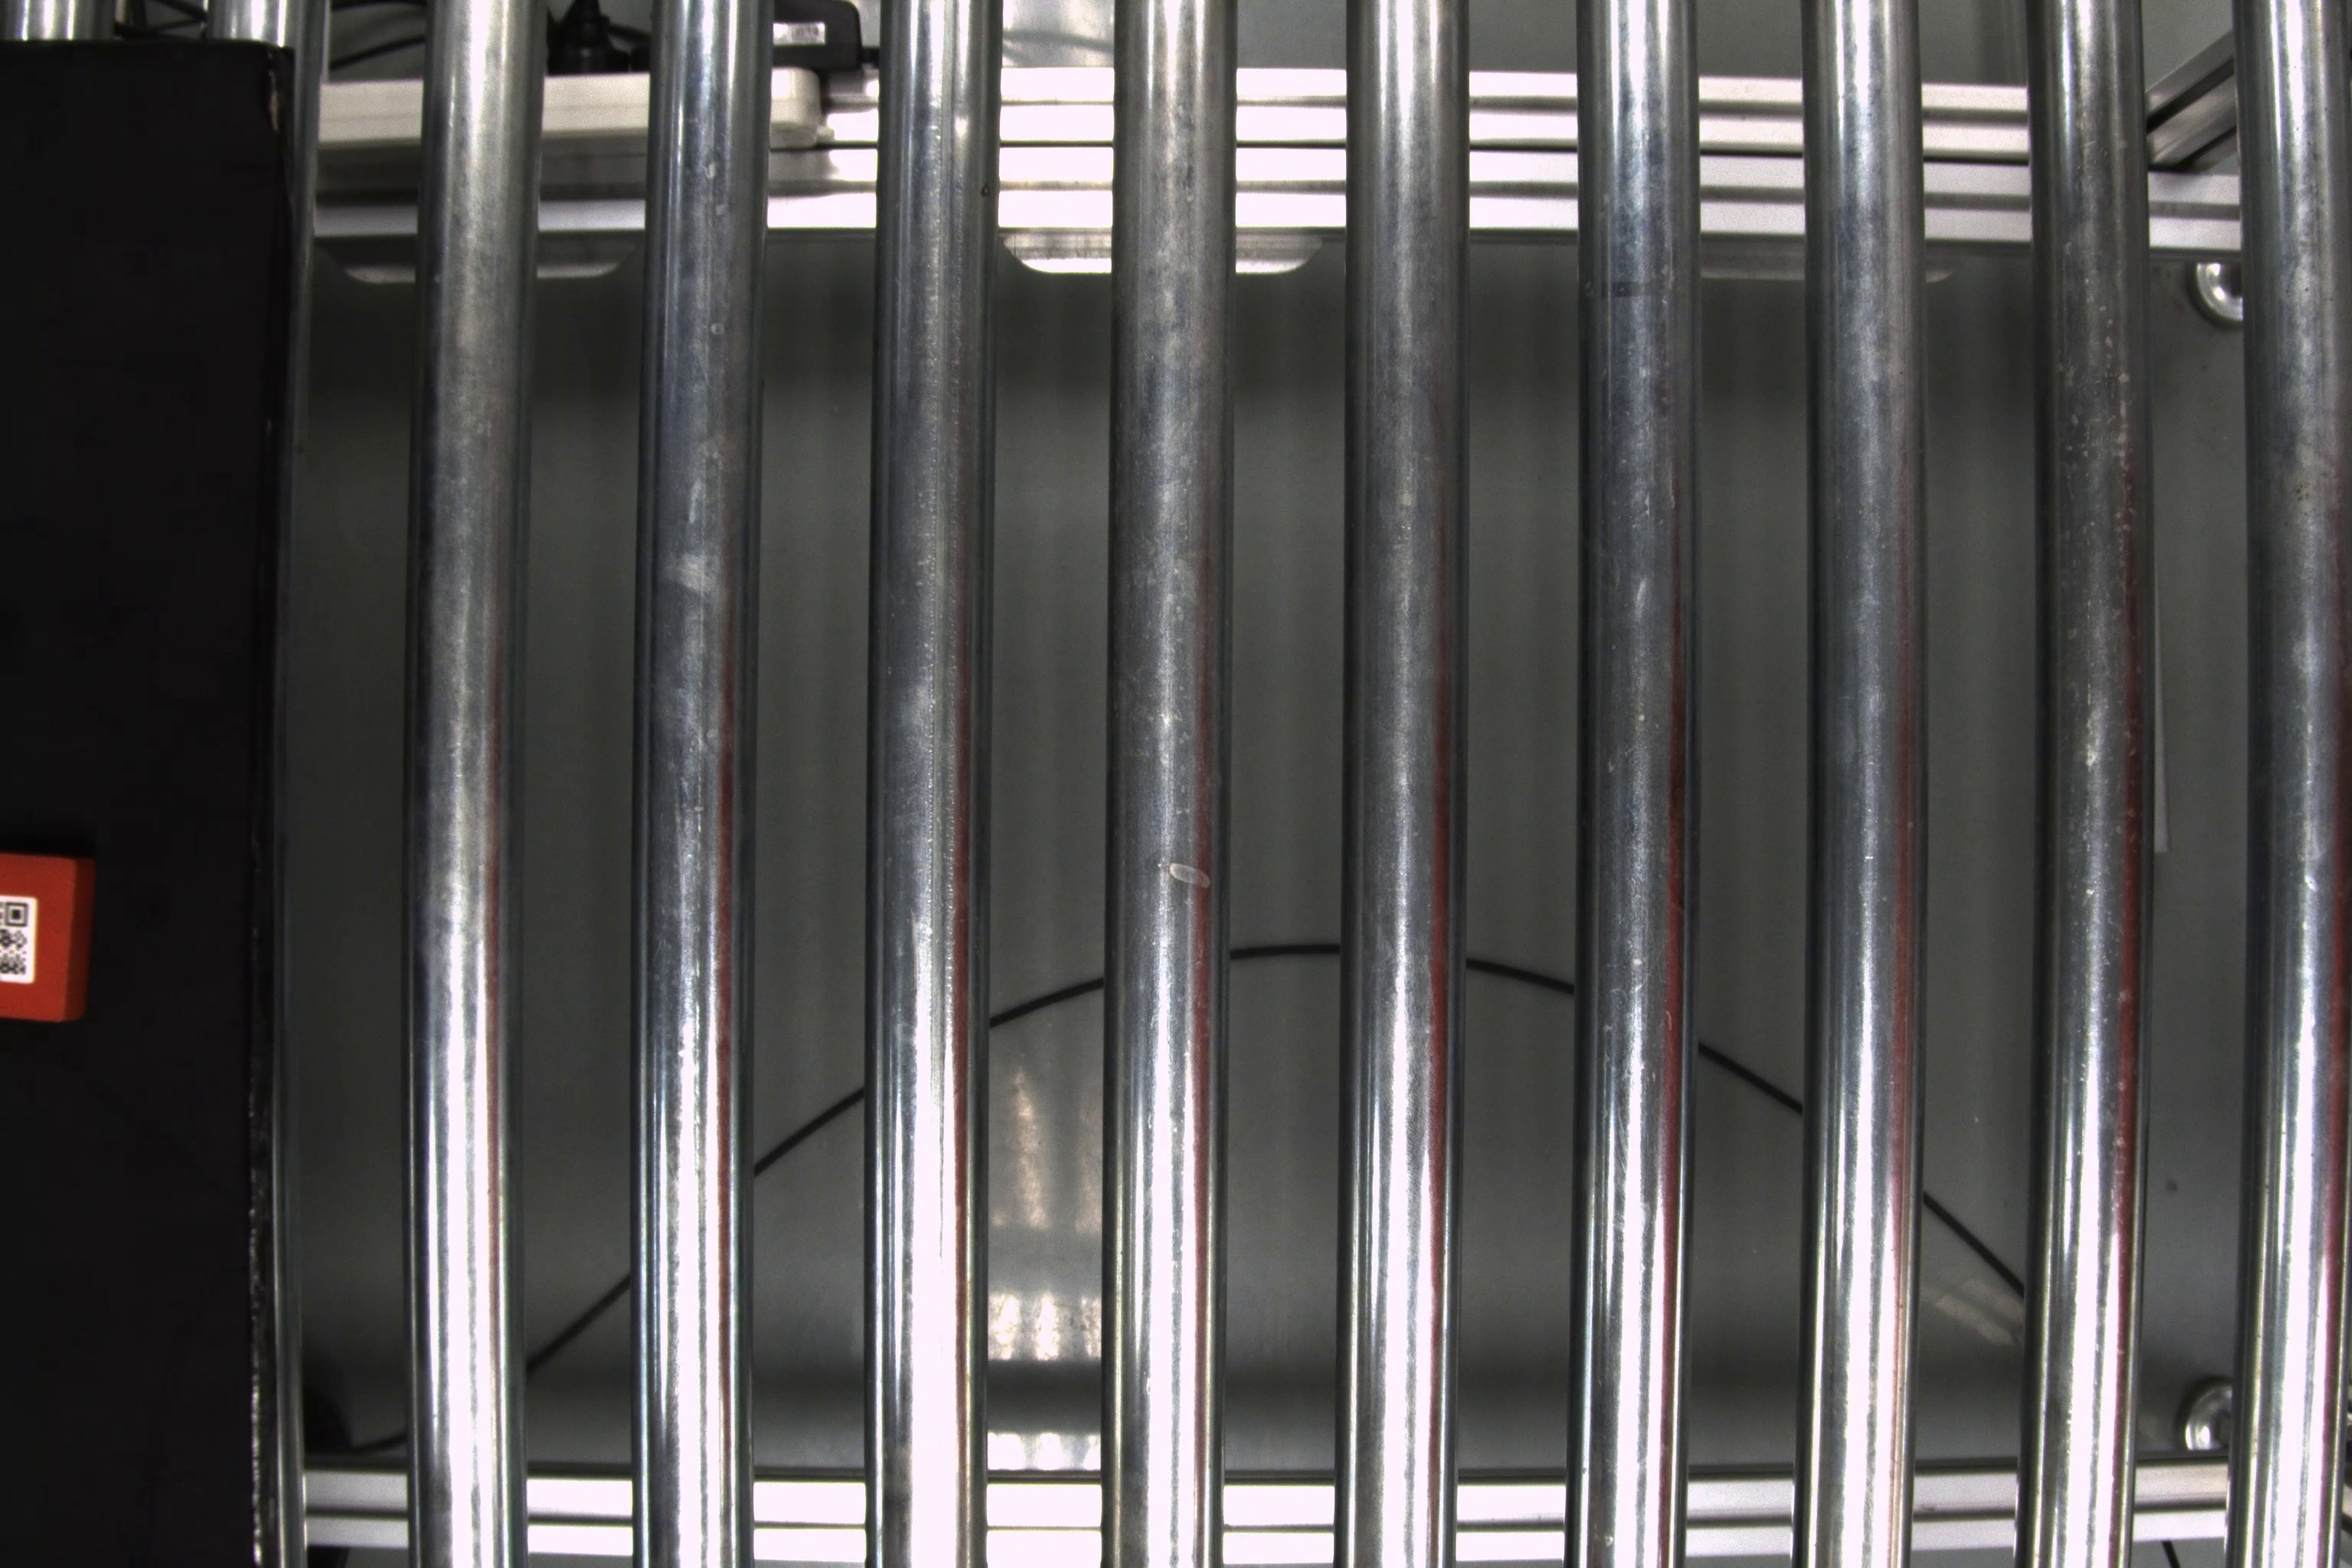wood: (3, 852, 107, 1022)
